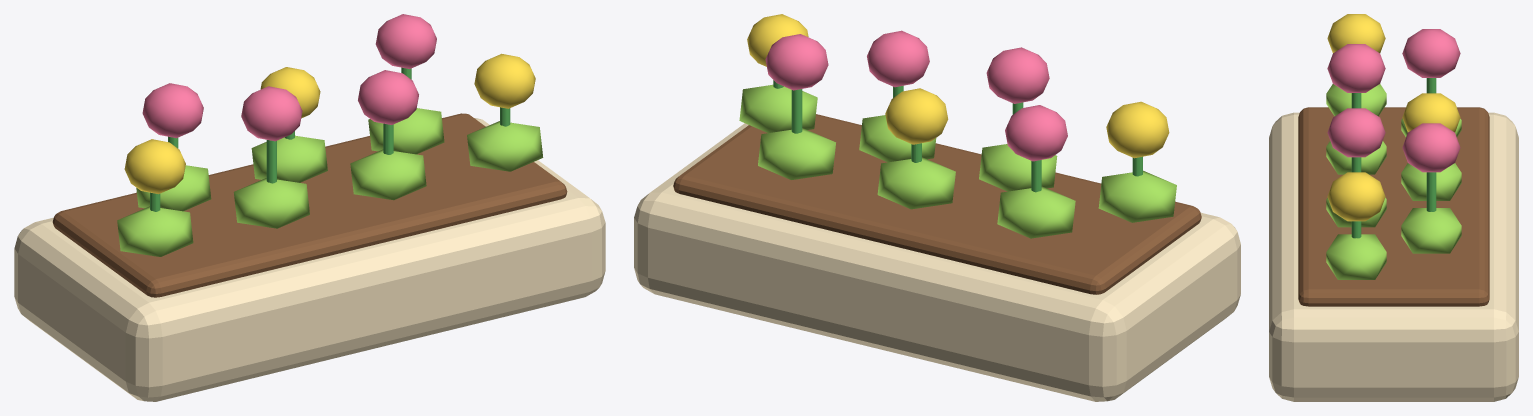
The model's file is SM_FlowerBed.fbx.
3 renders of one model, left to right at view 1: azimuth 30°, elevation 25°; view 2: azimuth 150°, elevation 25°; view 3: azimuth 270°, elevation 25°, orthographic. The views are drawn at different scales.
Visible parts, largest first — view 1: Raised planter stone, Planter soil, Flower leaves.004, Flower leaves, Flower leaves.006, Flower leaves.002, Flower blossom.002, Flower blossom, Flower blossom.005, Flower blossom.006, Flower blossom.001, Flower blossom.004 (+4 smaller); view 2: Raised planter stone, Planter soil, Flower leaves.001, Flower leaves, Flower leaves.003, Flower leaves.005, Flower blossom.002, Flower blossom.004, Flower blossom, Flower blossom.001, Flower blossom.003, Flower blossom.005 (+4 smaller); view 3: Raised planter stone, Planter soil, Flower leaves.005, Flower leaves.006, Flower blossom.004, Flower blossom.005, Flower blossom.006, Flower blossom.001, Flower blossom.002, Flower blossom.003, Flower blossom, Flower leaves.003 (+4 smaller).
Part boxes in pixels (x1,y1,x2,y2): Raised planter stone: [14, 118, 605, 401]; Planter soil: [52, 113, 567, 297]; Flower leaves.004: [350, 149, 426, 200]; Flower leaves: [117, 206, 193, 256]; Flower leaves.006: [467, 121, 543, 171]; Flower leaves.002: [233, 178, 309, 228]; Flower blossom.002: [241, 86, 302, 141]; Flower blossom: [124, 139, 185, 194]; Flower blossom.005: [375, 14, 436, 68]; Flower blossom.006: [474, 53, 535, 108]; Flower blossom.001: [142, 83, 203, 138]; Flower blossom.004: [358, 70, 418, 124]; Raised planter stone: [634, 123, 1240, 401]; Planter soil: [673, 114, 1201, 294]; Flower leaves.001: [997, 186, 1075, 238]; Flower leaves: [1098, 170, 1176, 222]; Flower leaves.003: [877, 157, 955, 209]; Flower leaves.005: [758, 128, 835, 179]; Flower blossom.002: [986, 47, 1049, 103]; Flower blossom.004: [867, 30, 929, 87]; Flower blossom: [1106, 101, 1169, 158]; Flower blossom.001: [1005, 105, 1067, 161]; Flower blossom.003: [885, 88, 948, 144]; Flower blossom.005: [765, 34, 828, 90]; Raised planter stone: [1269, 112, 1518, 401]; Planter soil: [1298, 107, 1489, 306]; Flower leaves.005: [1401, 208, 1461, 253]; Flower leaves.006: [1326, 234, 1386, 279]; Flower blossom.004: [1327, 108, 1385, 157]; Flower blossom.005: [1402, 123, 1460, 172]; Flower blossom.006: [1327, 172, 1385, 221]; Flower blossom.001: [1402, 29, 1460, 77]; Flower blossom.002: [1327, 44, 1385, 92]; Flower blossom.003: [1402, 93, 1460, 132]; Flower blossom: [1327, 14, 1385, 52]; Flower leaves.003: [1401, 163, 1461, 200].
Size of the model in its own units: 2.45 by 1.22 by 1.2.
